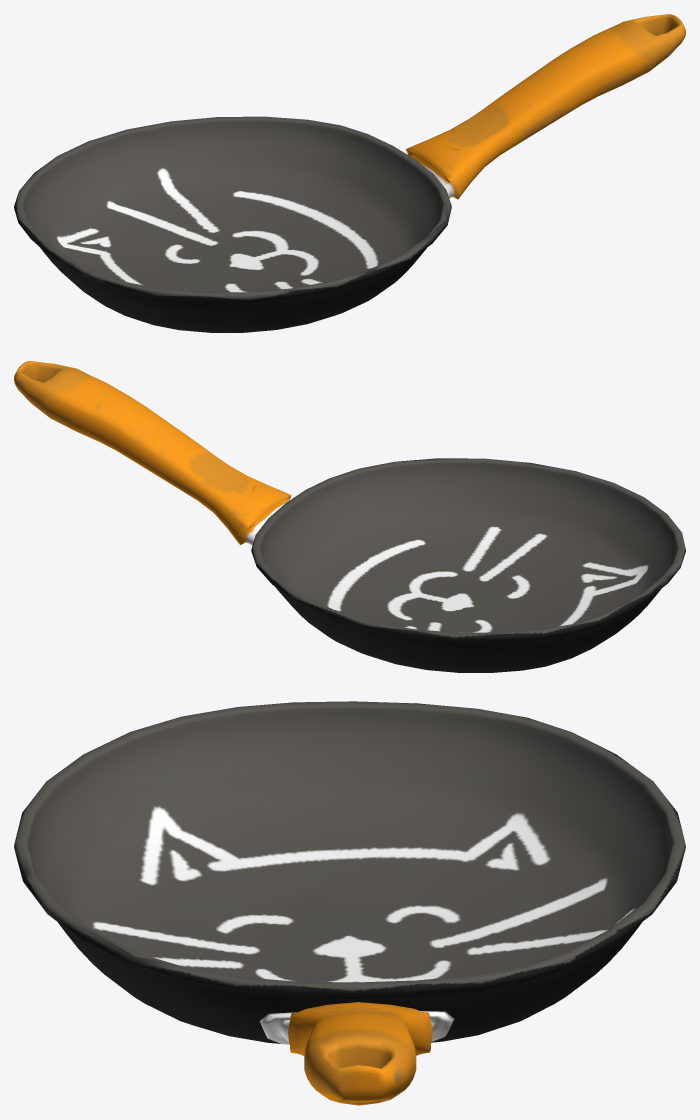
The model's file is FInal_Pan_Smooth.fbx.
3 views of the same model, one above another, from view 1: azimuth 30°, elevation 25°; view 2: azimuth 150°, elevation 25°; view 3: azimuth 270°, elevation 25° (orthographic). The views are drawn at different scales.
Visible parts, largest first — view 1: pCube1; view 2: pCube1; view 3: pCube1.
Part boxes in pixels (bbox=[...]): pCube1: bbox=[14, 14, 685, 332]; pCube1: bbox=[14, 361, 685, 672]; pCube1: bbox=[14, 701, 685, 1105].
Size of the model in its own units: 20.09 by 4.45 by 11.61.
1 material, 1 textured.
